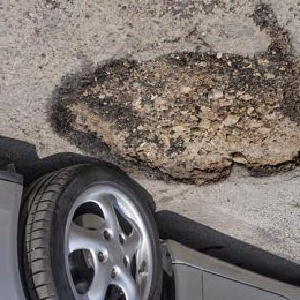pothole: (46, 47, 300, 188)
